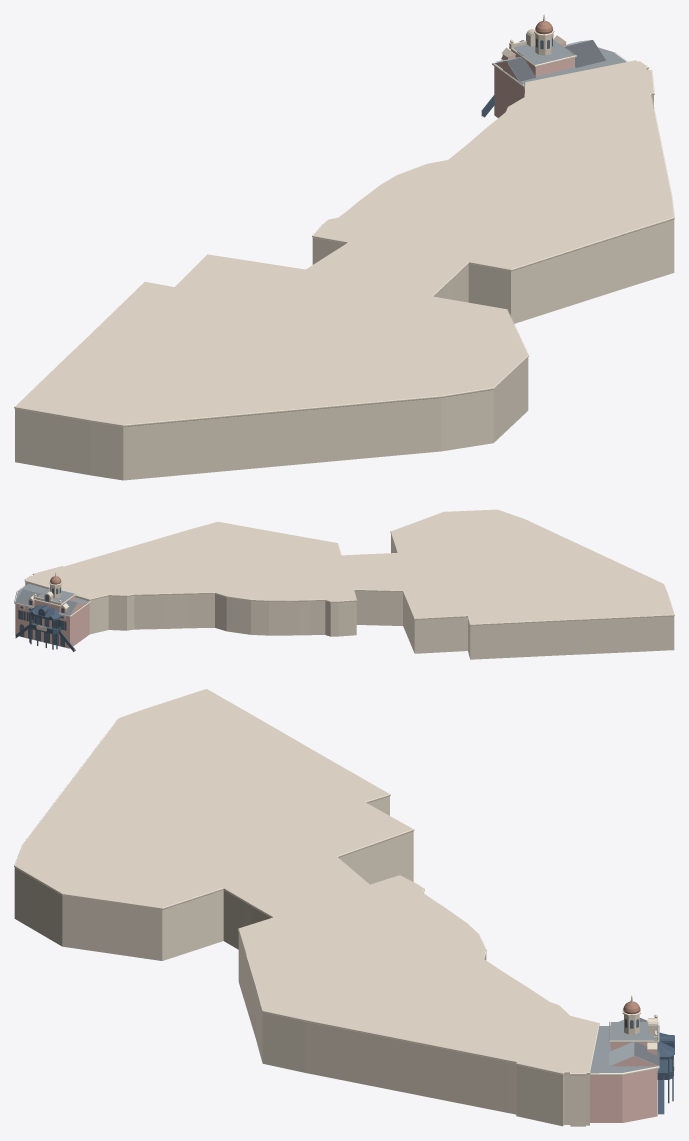
The model's file is dlr-pirates-blue-bayou.glb.
3 views of the same model, one above another, from view 1: azimuth 30°, elevation 25°; view 2: azimuth 150°, elevation 25°; view 3: azimuth 270°, elevation 25° (orthographic). The views are drawn at different scales.
Parts seen in each view (by area): view 1: Pirates of the Caribbean and Blue Bayou; view 2: Pirates of the Caribbean and Blue Bayou; view 3: Pirates of the Caribbean and Blue Bayou.
Boxes of the visible parts, left/top/right/bottom form: Pirates of the Caribbean and Blue Bayou: left=14, top=14, right=674, bottom=480; Pirates of the Caribbean and Blue Bayou: left=14, top=509, right=674, bottom=659; Pirates of the Caribbean and Blue Bayou: left=14, top=689, right=674, bottom=1126.
Bounding box in the file's own units: 155 × 18.55 × 112.
